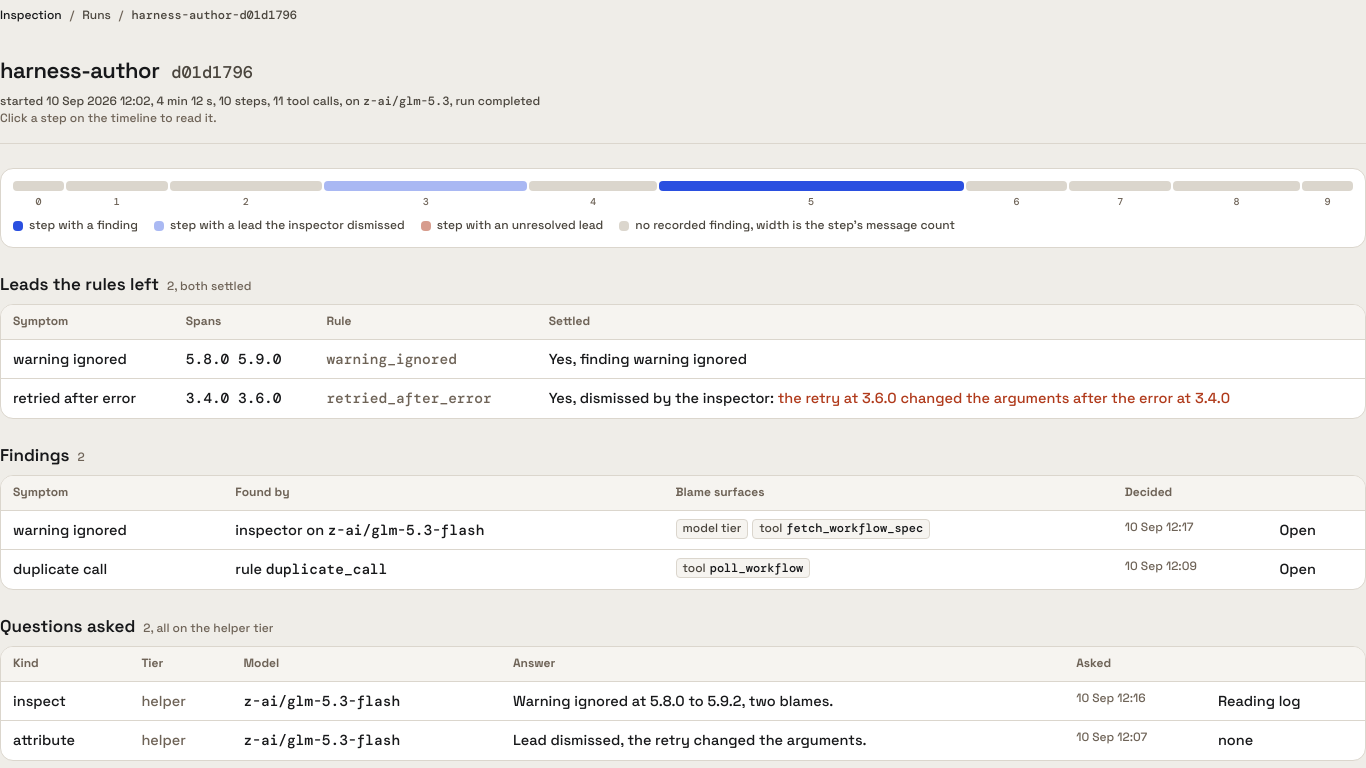
RunOverviewPage › opens the step drawer when a bar in the timeline is clicked
The width and height of the screenshot is (1366, 768).
Expected: the heading "harness-author" is shown, [0,56,159,85]
Click the button named "step 5, 12 messages": coordinates (811, 186) [659,181,964,191]
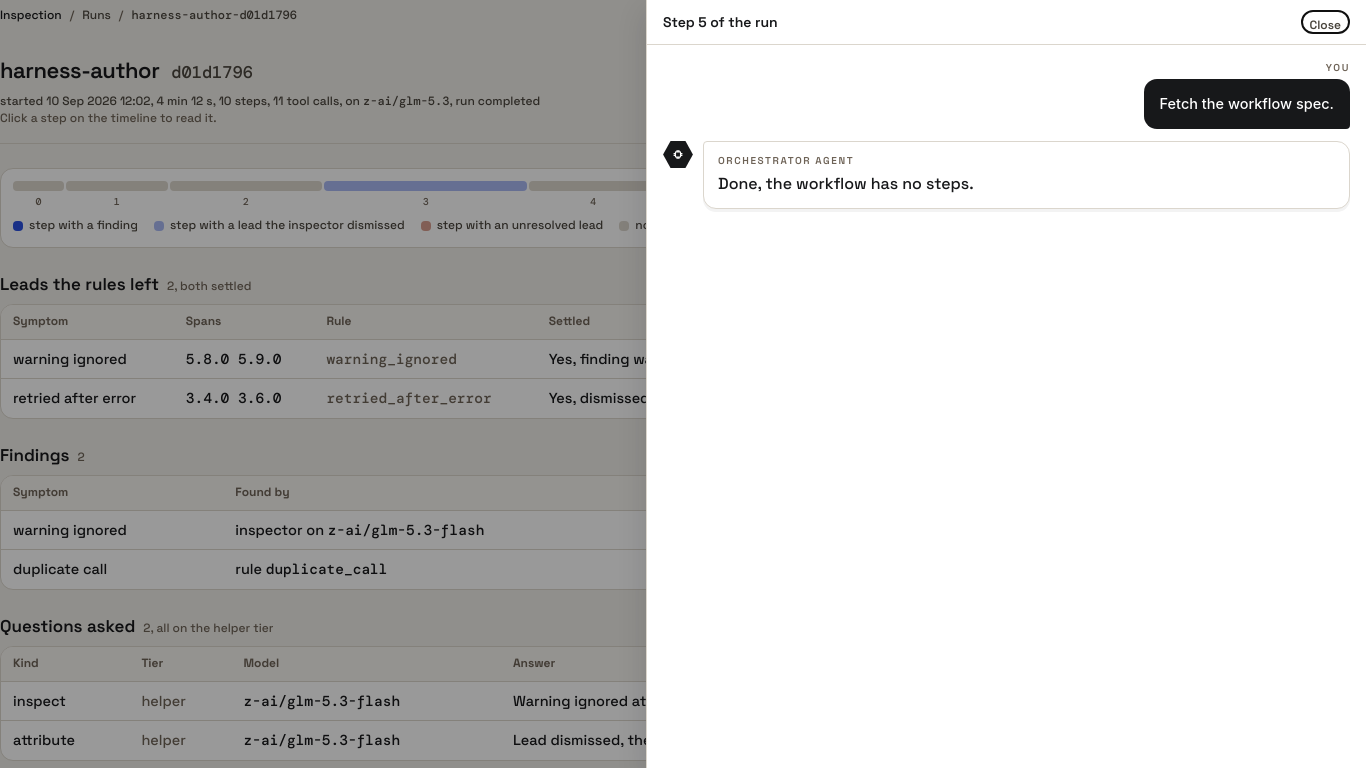
Expected: the text "Fetch the workflow spec." is shown, [1160,93,1334,116]
